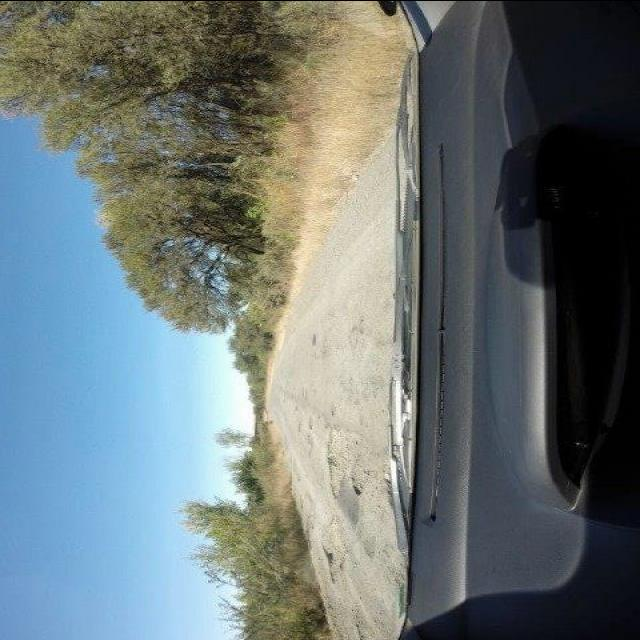lubang: (314, 511, 356, 585), (348, 434, 382, 496), (322, 425, 348, 500), (346, 607, 381, 640), (358, 530, 380, 564), (304, 408, 322, 438)
